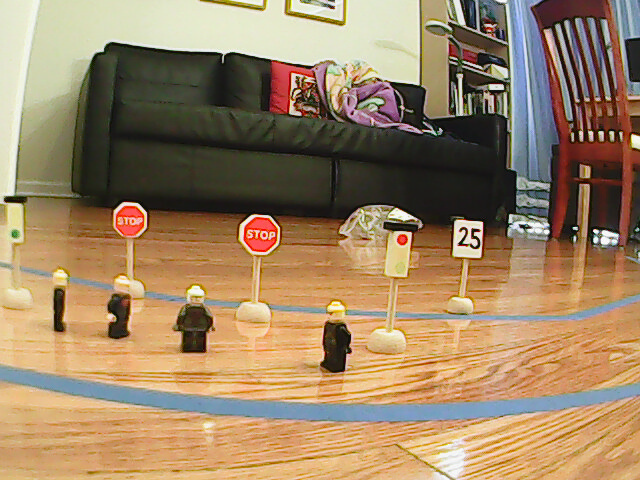Green Traffic Light: (3, 196, 26, 243)
Person: (171, 286, 214, 354), (320, 301, 353, 373), (105, 276, 132, 339), (51, 269, 71, 335)
Red Traffic Light: (383, 220, 415, 279)
Speed Limit 25: (452, 218, 482, 262)
Stop Sign: (237, 211, 283, 259), (113, 202, 147, 239)
